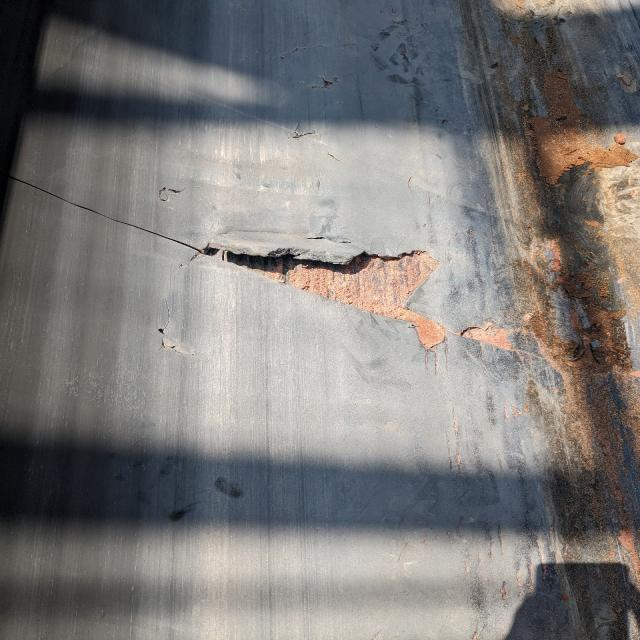Tear: (0, 172, 525, 362), (149, 291, 193, 363), (272, 36, 353, 62), (274, 120, 335, 150), (149, 179, 192, 206), (305, 68, 346, 93)
